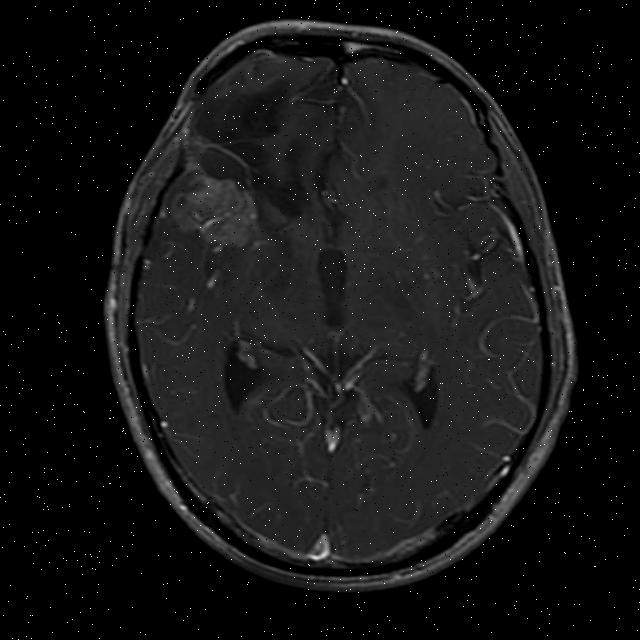Glioma: (163, 171, 264, 250)
